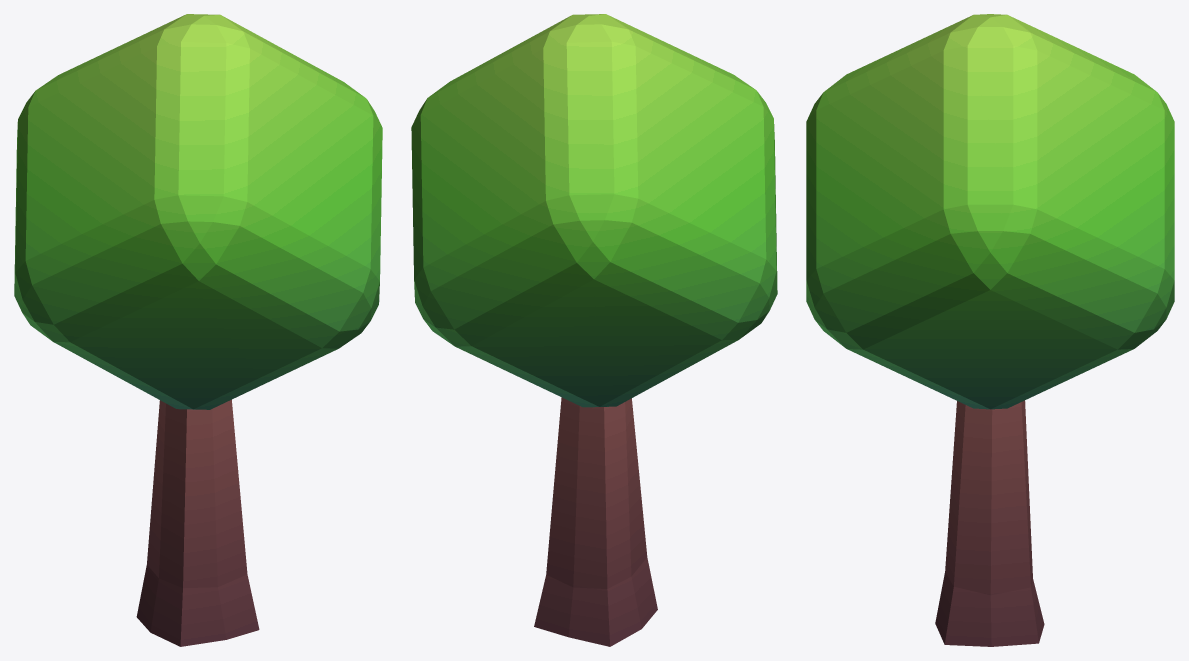
Rendered from Green_H.glb.
3 renders of one model, left to right at view 1: azimuth 30°, elevation 25°; view 2: azimuth 150°, elevation 25°; view 3: azimuth 270°, elevation 25°, orthographic.
Visible parts, largest first — view 1: Green_Leaves_M, Green_Trunk_M; view 2: Green_Leaves_M, Green_Trunk_M; view 3: Green_Leaves_M, Green_Trunk_M.
Boxes of the visible parts, left/top/right/bottom form: Green_Leaves_M: left=14, top=14, right=382, bottom=409; Green_Trunk_M: left=136, top=399, right=259, bottom=646; Green_Leaves_M: left=411, top=14, right=777, bottom=407; Green_Trunk_M: left=534, top=397, right=657, bottom=646; Green_Leaves_M: left=806, top=14, right=1174, bottom=409; Green_Trunk_M: left=935, top=400, right=1044, bottom=646.
Bounding box in the file's own units: 1.99 × 3.25 × 1.79.
Materials: 1 (1 with a texture image).
